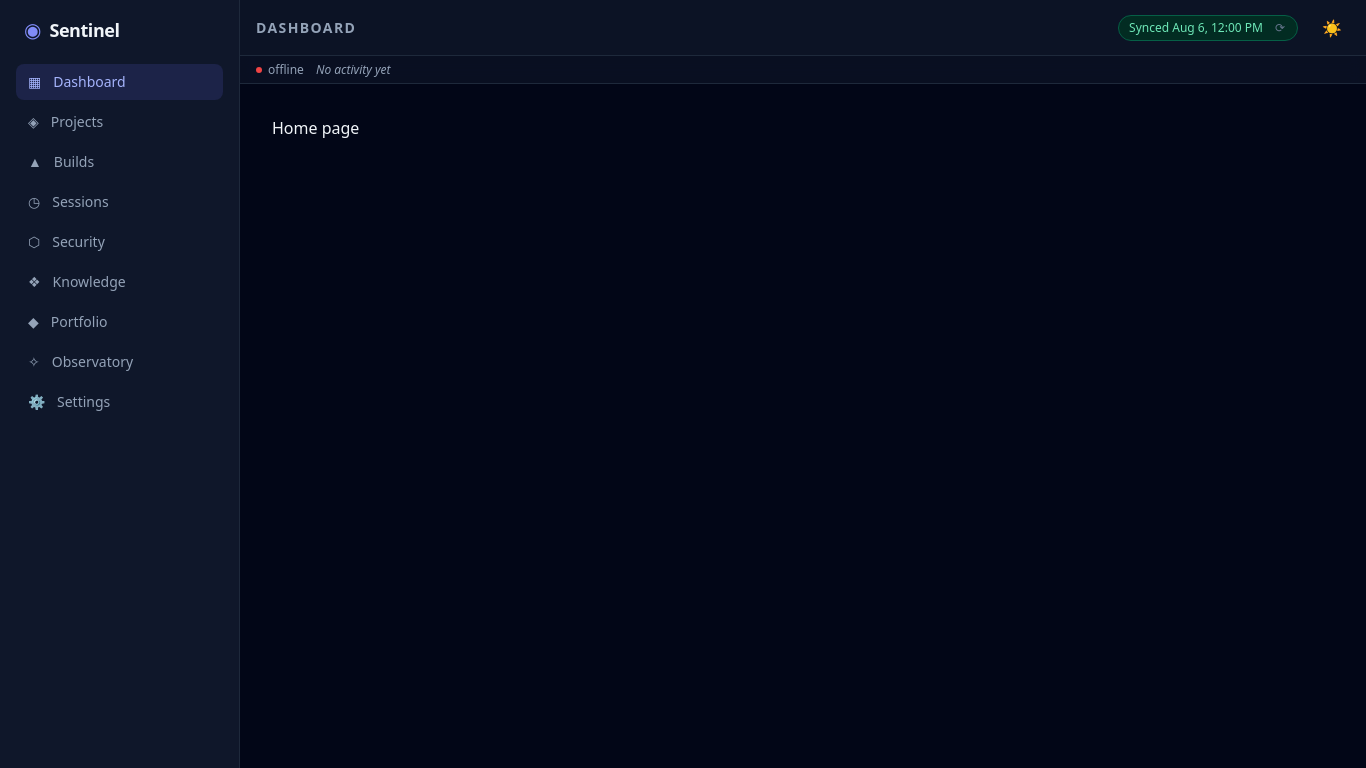
Test: Layout › queues a repo sync from the header button (v1.17.1)
The image size is (1366, 768).
Expected: the text "Synced Aug 6, 12:00 PM ⟳" is shown, [1118,14,1298,40]
Click the button named "Sync now" at (1280, 28), box [1273,18,1287,38]
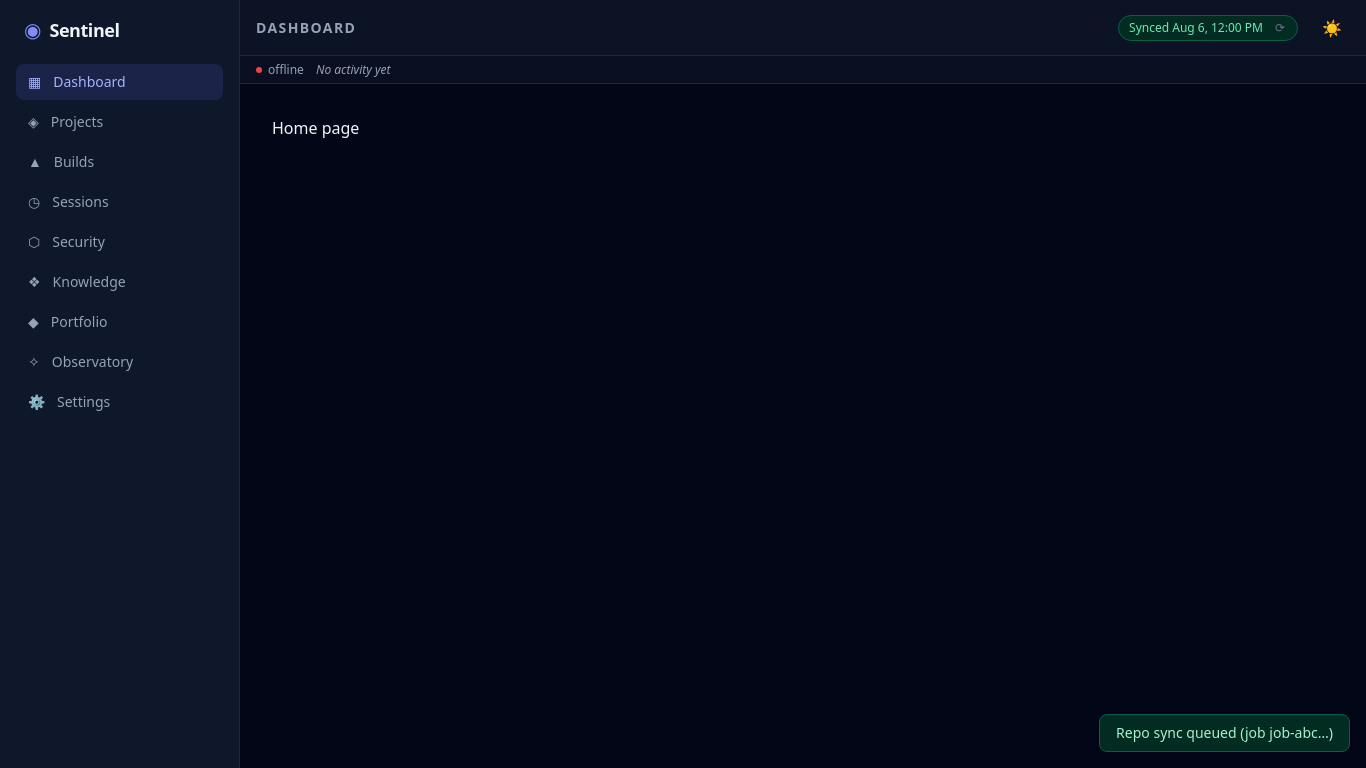
Result: the button "Repo sync queued (job job-abc…)" is shown at [1099,714,1350,752]
